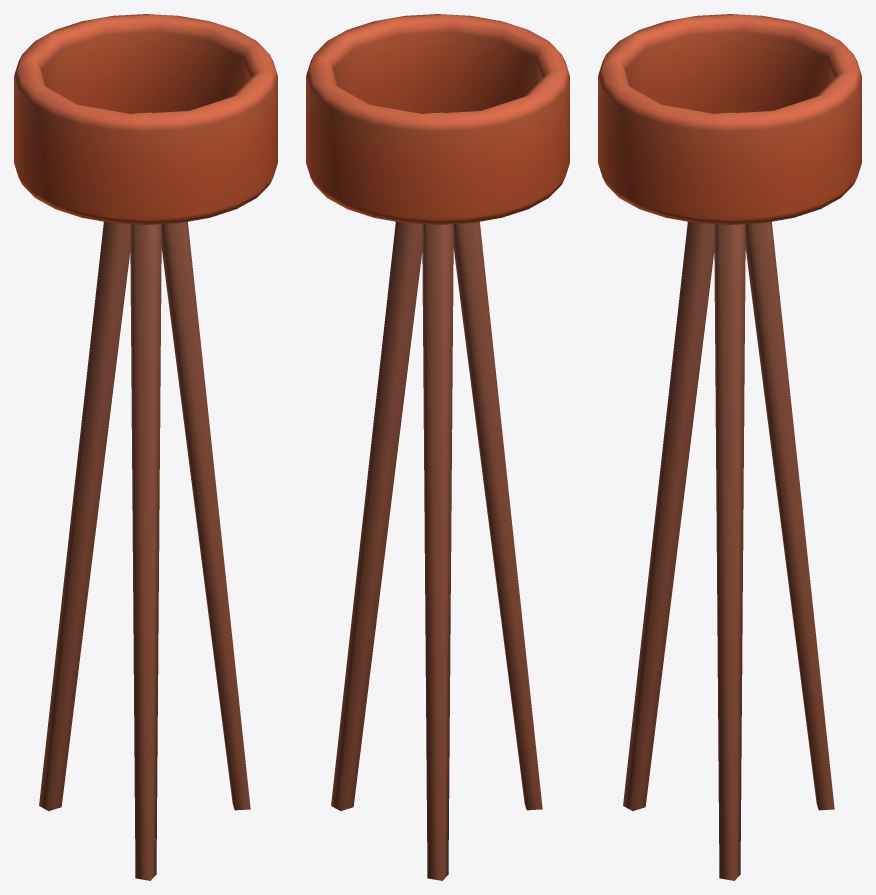
File: Light_05.glb
The picture shows the model from 3 angles, left to right: view 1: azimuth 30°, elevation 25°; view 2: azimuth 150°, elevation 25°; view 3: azimuth 270°, elevation 25°; orthographic projection.
Parts seen in each view (by area): view 1: Light_05; view 2: Light_05; view 3: Light_05.
Boxes of the visible parts, bbox=[...] form: Light_05: bbox=[14, 14, 277, 880]; Light_05: bbox=[306, 14, 569, 880]; Light_05: bbox=[598, 14, 861, 880].
Bounding box in the file's own units: 0.4376 × 1.4 × 0.4376.
1 material, 1 textured.
